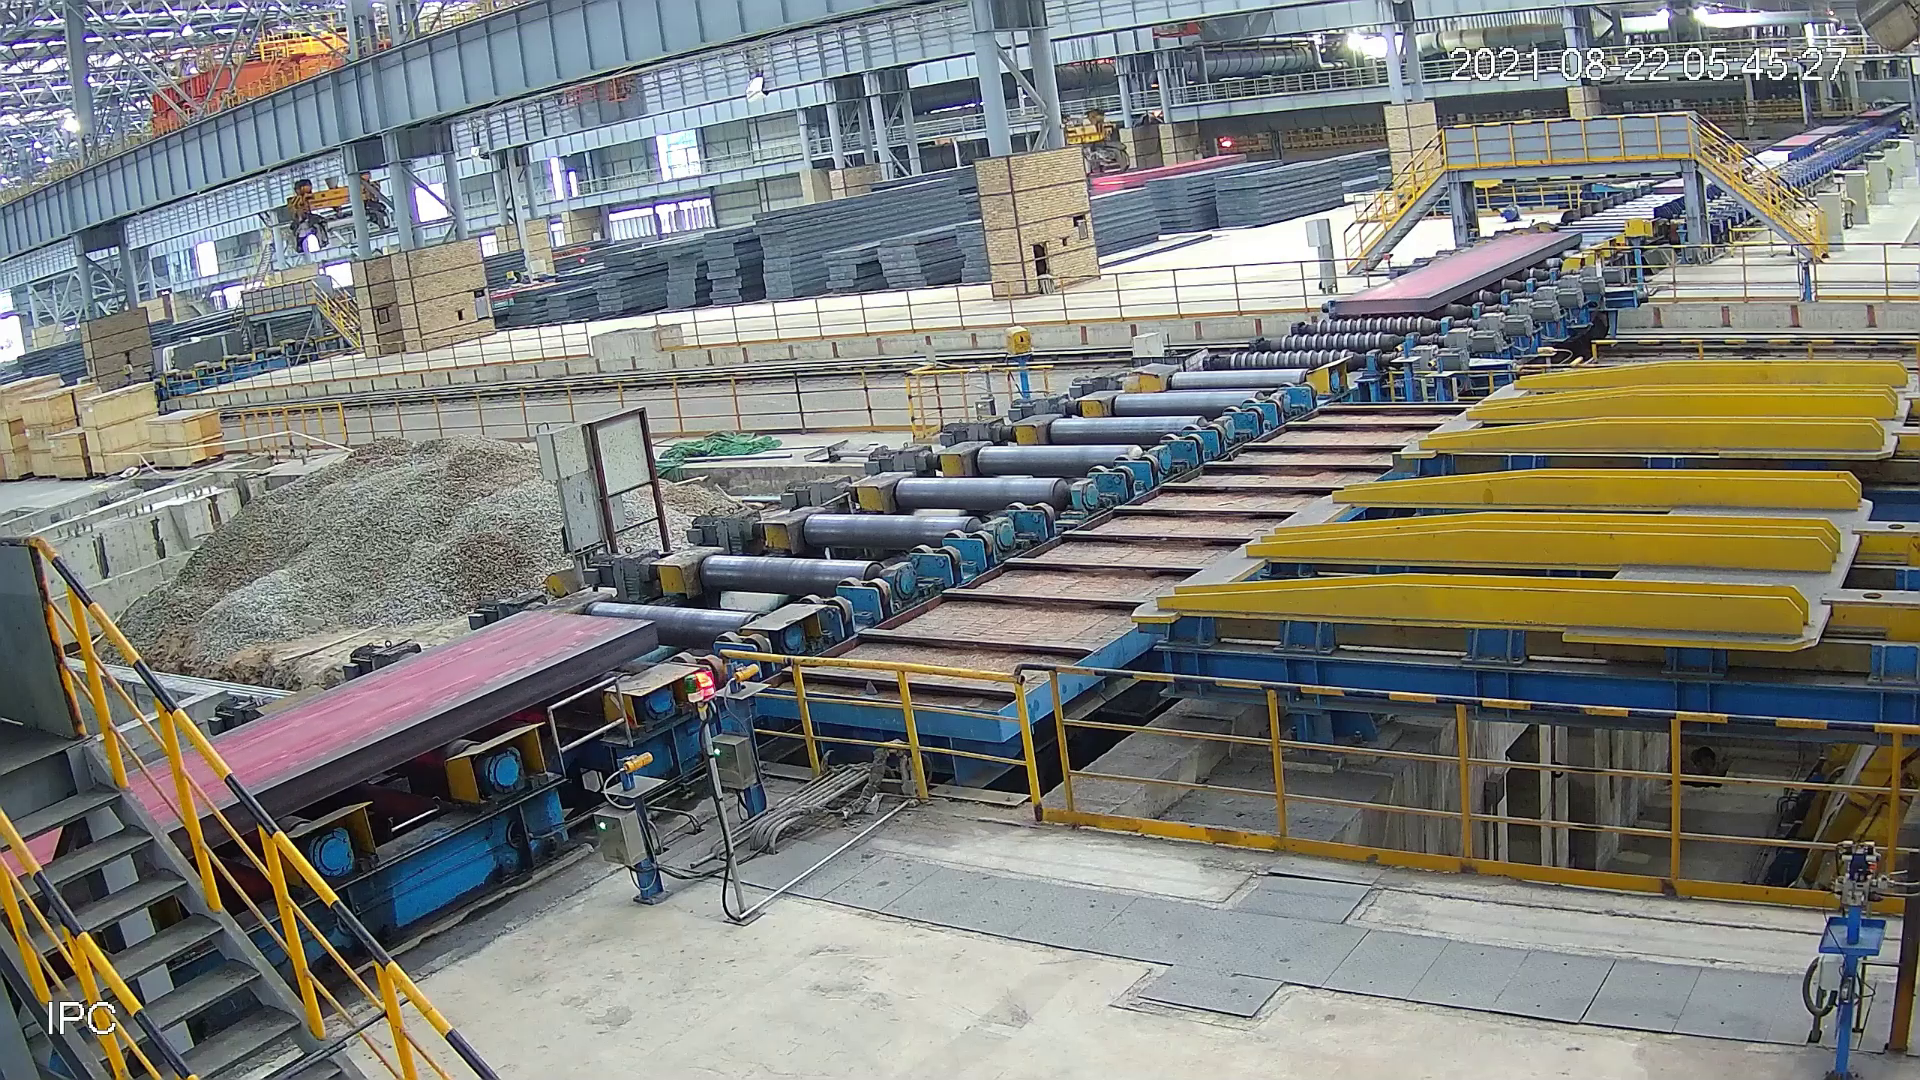slab: (1, 603, 676, 924), (1324, 218, 1589, 323)
